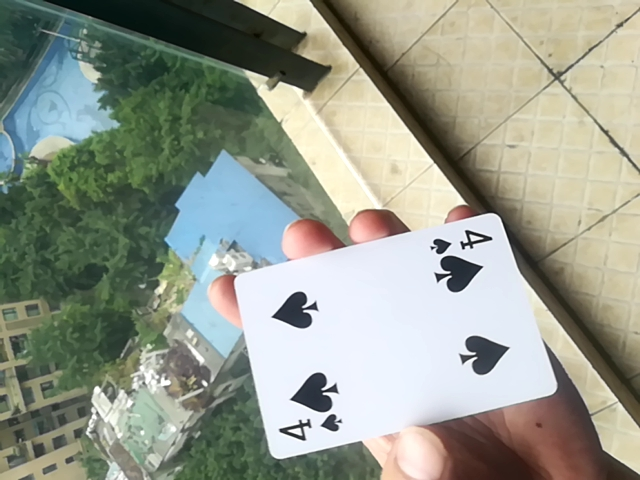ht 4: (226, 207, 561, 465)
